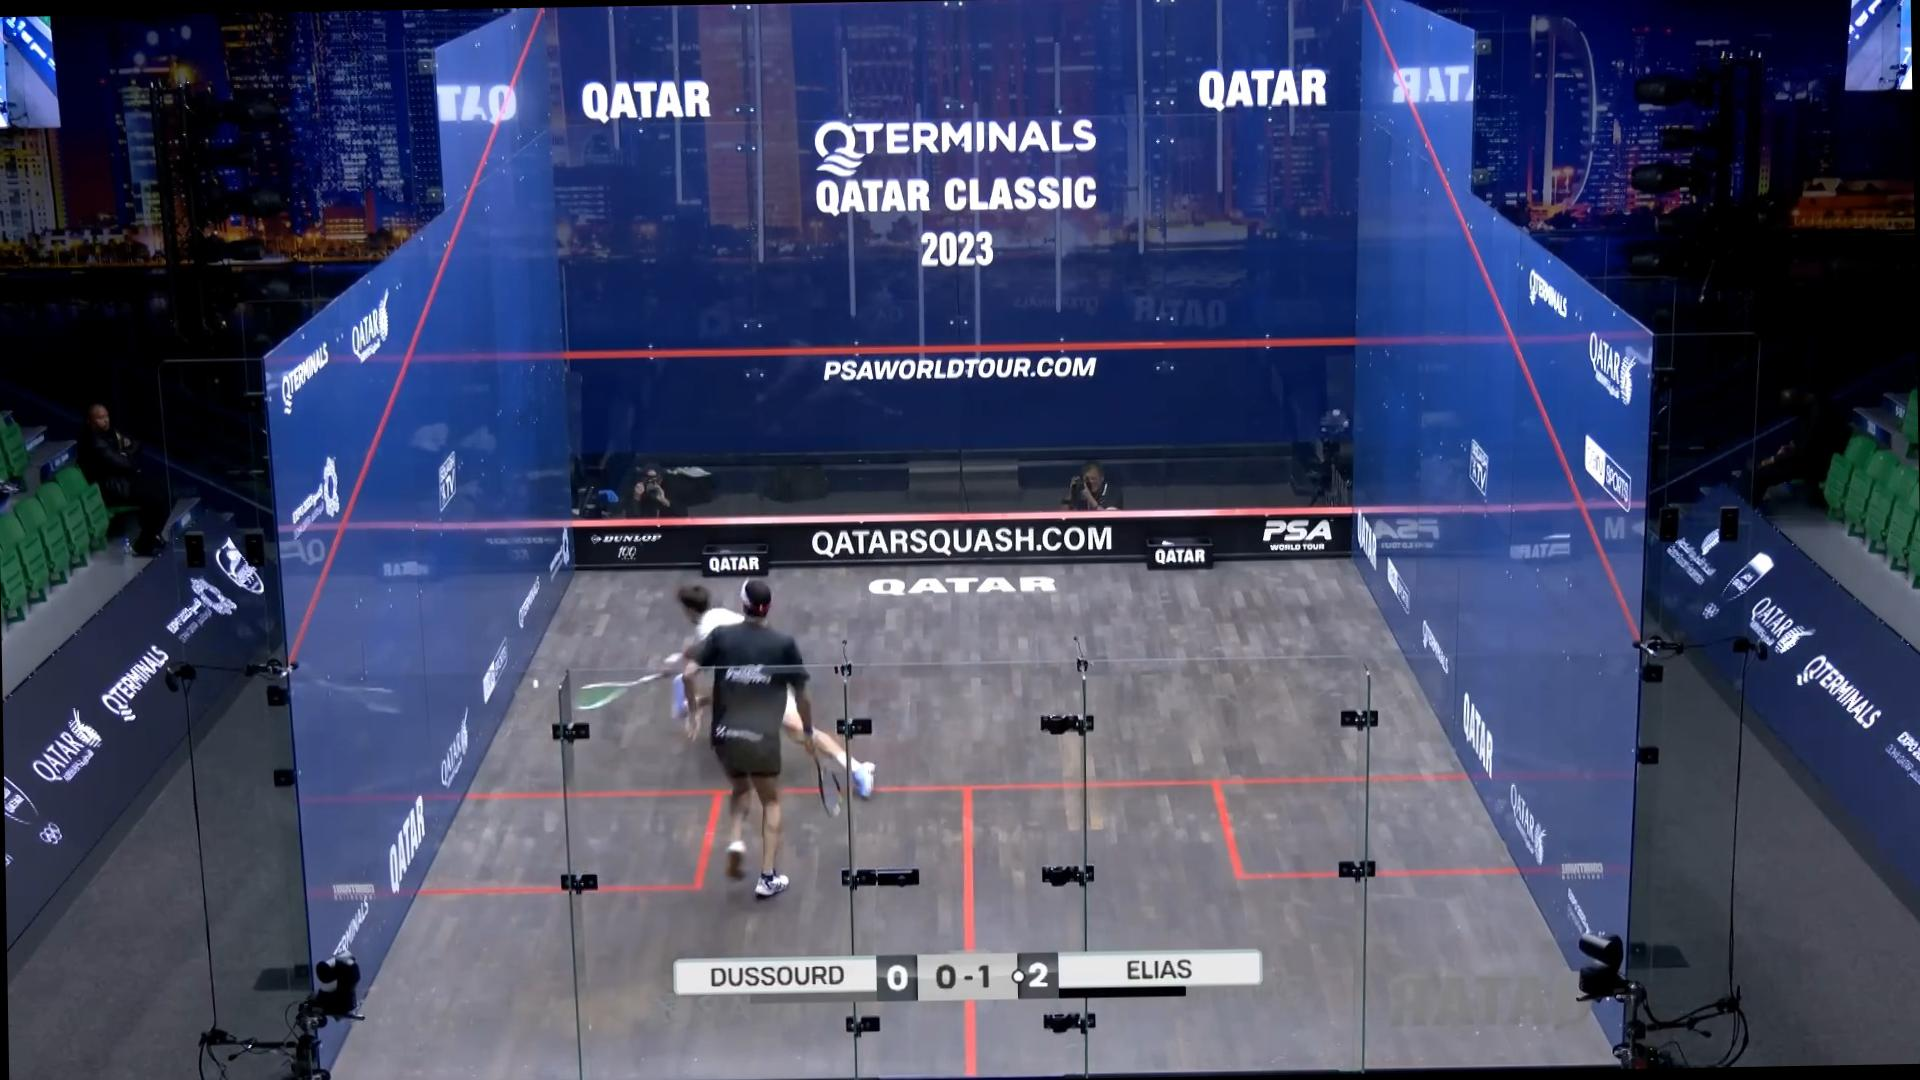Racket: (568, 670, 670, 716), (811, 749, 848, 822)
